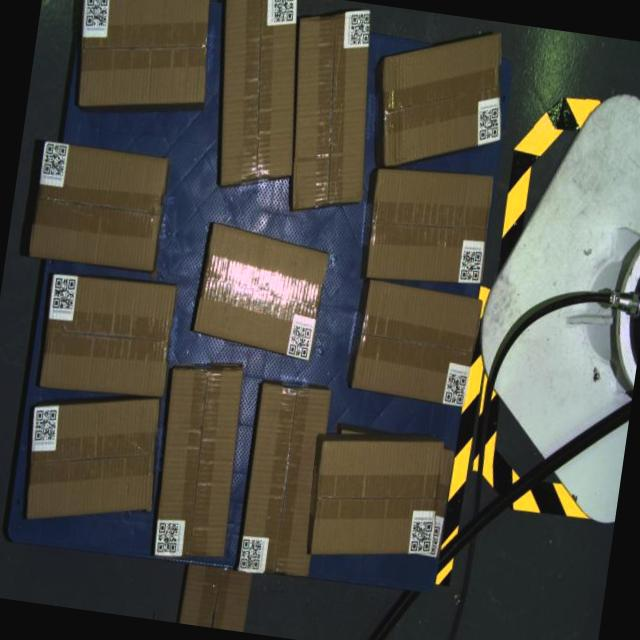box: (274, 0, 388, 219), (369, 18, 516, 182), (18, 382, 167, 536), (200, 0, 317, 195), (147, 360, 250, 566), (308, 424, 448, 570), (191, 223, 331, 362), (37, 268, 179, 404), (238, 381, 334, 581), (29, 140, 169, 273), (68, 0, 219, 123), (363, 160, 496, 294), (351, 280, 484, 408)
